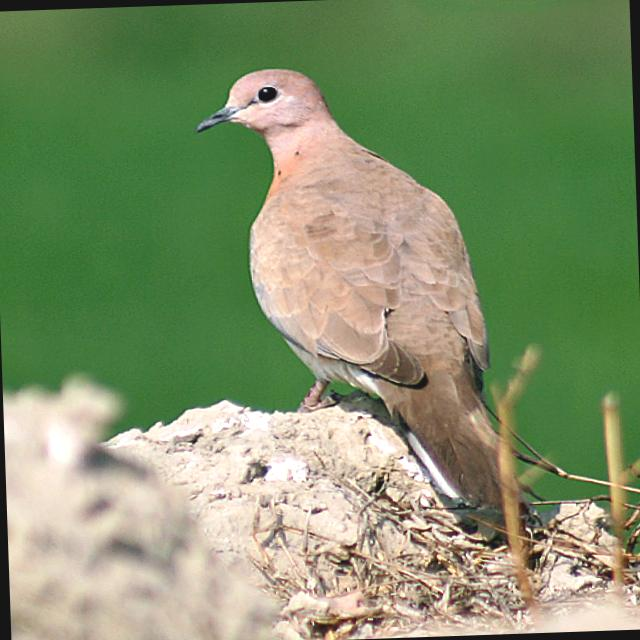bird: (183, 38, 568, 572)
